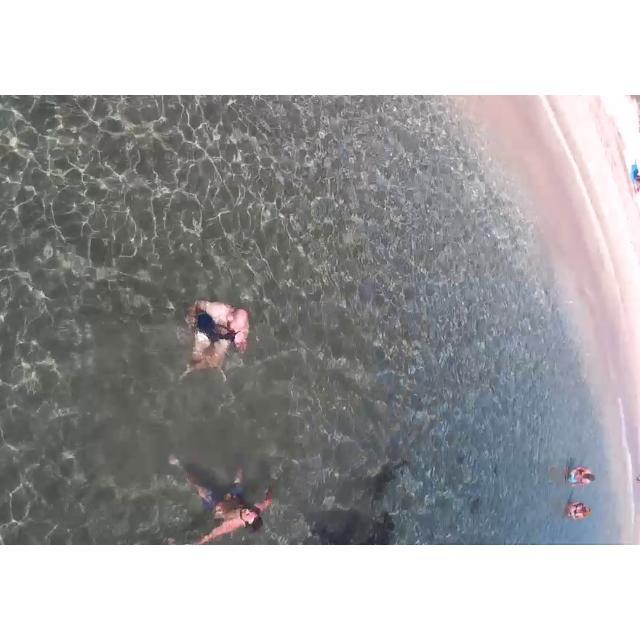human: (172, 293, 273, 390), (565, 461, 597, 496), (567, 494, 594, 531)
